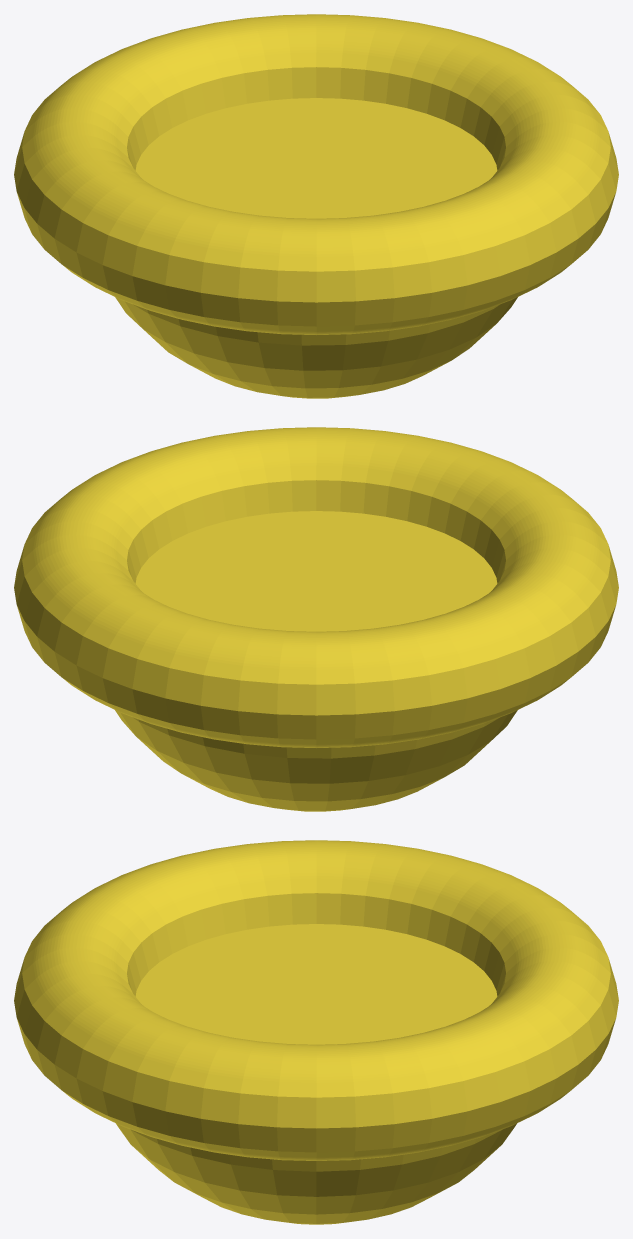
The model's file is Yellow_Button_Up.fbx.
3 renders of one model, top to bottom at view 1: azimuth 30°, elevation 25°; view 2: azimuth 150°, elevation 25°; view 3: azimuth 270°, elevation 25°, orthographic.
Parts seen in each view (by area): view 1: Torus, Sphere; view 2: Torus, Sphere; view 3: Torus, Sphere.
Part boxes in pixels (box(x1,y1,x2,y2)): Torus: box(14, 14, 618, 334); Sphere: box(115, 98, 517, 398); Torus: box(14, 427, 618, 747); Sphere: box(115, 511, 517, 811); Torus: box(14, 840, 618, 1160); Sphere: box(116, 924, 516, 1224).
Bounding box in the file's own units: 250 × 115 × 250.
